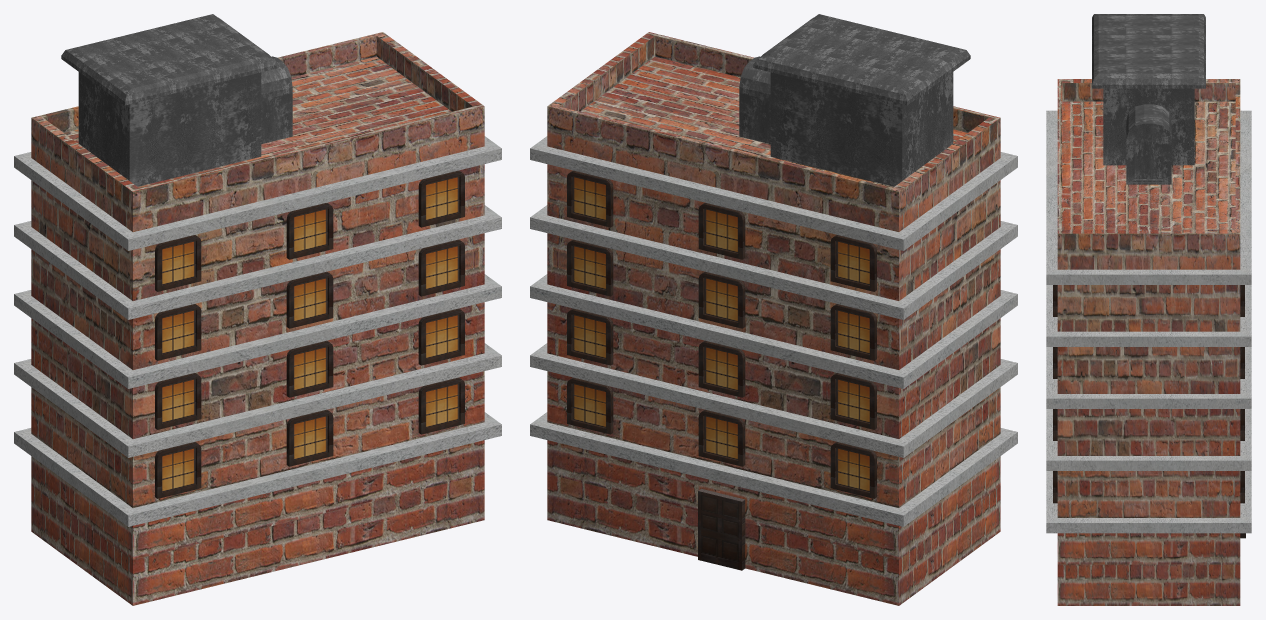
Rendered from edificiot.obj.
3 renders of one model, left to right at view 1: azimuth 30°, elevation 25°; view 2: azimuth 150°, elevation 25°; view 3: azimuth 270°, elevation 25°, orthographic. The views are drawn at different scales.
Visible parts, largest first — view 1: edif, div, vidrios, cuarto, azotea, marcos; view 2: edif, div, vidrios, cuarto, azotea, marcos, puerta; view 3: edif, div, azotea, cuarto, marcos.
Part boxes in pixels (x1,y1,x2,y2): edif: (31,32,484,605); div: (14,136,501,526); vidrios: (162,177,459,491); cuarto: (78,72,261,186); azotea: (61,14,292,143); marcos: (155,170,464,498); edif: (547,32,1000,605); div: (530,136,1017,526); vidrios: (572,177,869,491); cuarto: (770,72,953,186); azotea: (739,14,970,143); marcos: (567,170,876,498); puerta: (698,488,745,570); edif: (1057,79,1240,605); div: (1046,110,1251,533); azotea: (1092,14,1205,184); cuarto: (1103,88,1194,165); marcos: (1053,285,1244,503).
Size of the model in its own units: 17 by 21.54 by 9.
